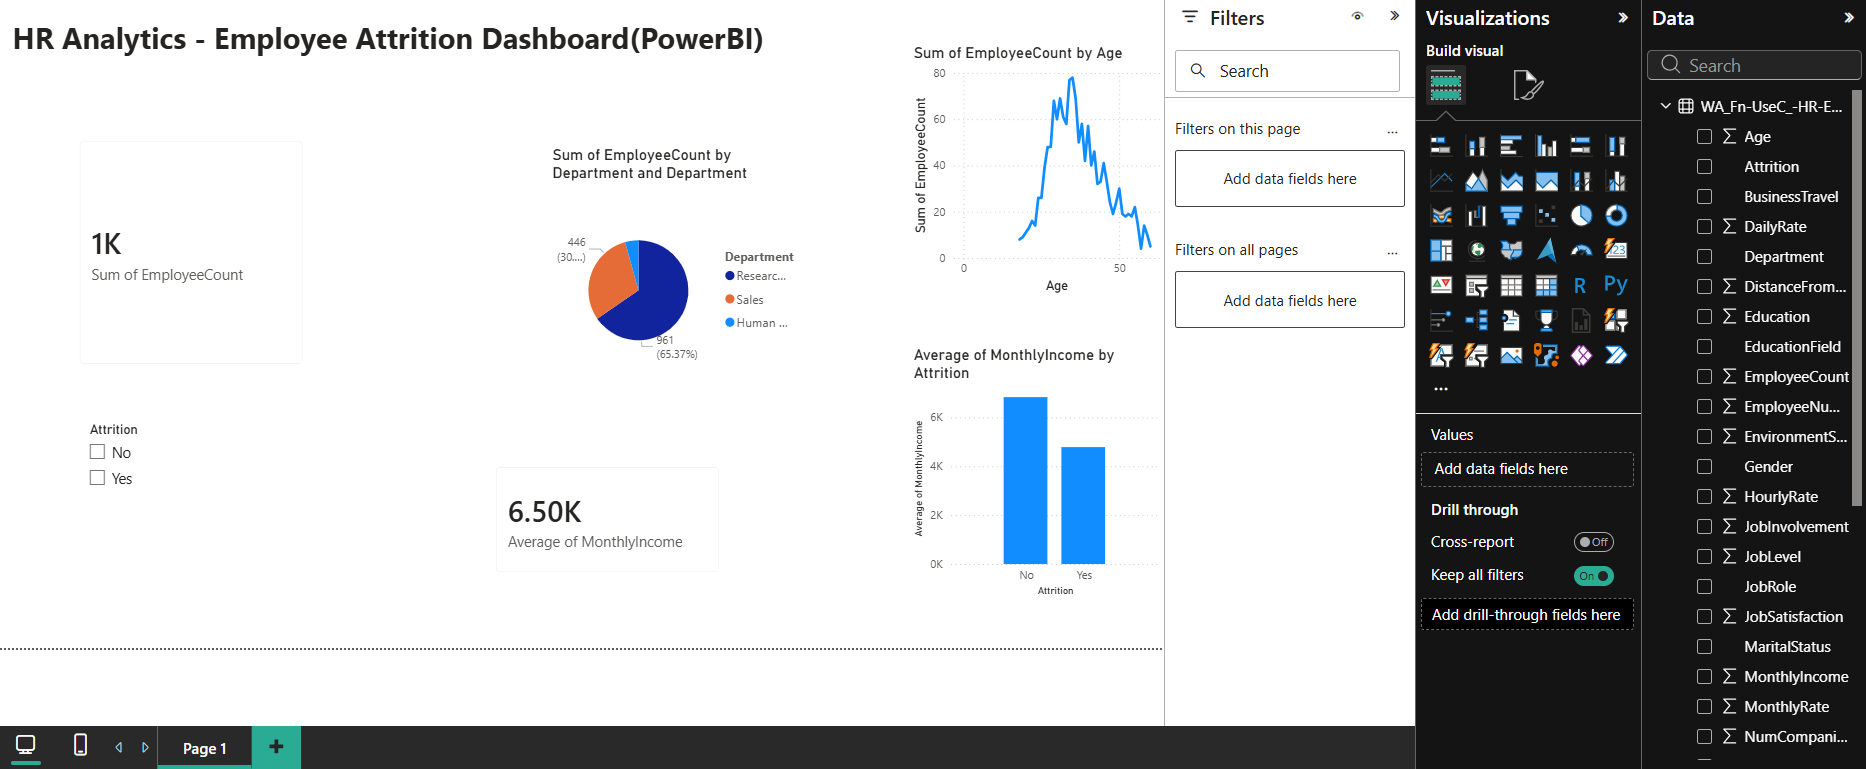

The dashboard page shown, as its layout file describes it:
{"tool":"powerbi","page":{"name":"Page 1","canvas":[1280,720],"ordinal":0},"visuals":[{"type":"cardVisual","fields":{"Data":["Sum(WA_Fn-UseC_-HR-Employee-Attrition.EmployeeCount)"]},"box":[72.7,145.5,279.9,279.9],"z":0},{"type":"pieChart","fields":{"Series":["WA_Fn-UseC_-HR-Employee-Attrition.Department"],"Category":["WA_Fn-UseC_-HR-Employee-Attrition.Department"],"Y":["Sum(WA_Fn-UseC_-HR-Employee-Attrition.EmployeeCount)"]},"box":[603.8,167.4,279.9,279.9],"z":1000},{"type":"slicer","fields":{"Values":["WA_Fn-UseC_-HR-Employee-Attrition.Attrition"]},"box":[87.8,465.2,279.9,150.9],"z":2000},{"type":"lineChart","fields":{"Category":["WA_Fn-UseC_-HR-Employee-Attrition.Age"],"Y":["Sum(WA_Fn-UseC_-HR-Employee-Attrition.EmployeeCount)"]},"box":[1000.3,54.9,279.9,279.9],"z":3000},{"type":"clusteredColumnChart","fields":{"Y":["Avg(WA_Fn-UseC_-HR-Employee-Attrition.MonthlyIncome)"],"Category":["WA_Fn-UseC_-HR-Employee-Attrition.Attrition"]},"box":[1000.3,387,279.9,279.9],"z":4000},{"type":"textbox","box":[11,22,841.2,65.9],"z":5000},{"type":"cardVisual","fields":{"Data":["Avg(WA_Fn-UseC_-HR-Employee-Attrition.MonthlyIncome)"]},"box":[529.7,503.6,279.9,149.6],"z":6000}]}

Visuals, with their boxes on the page's 1280x720 design canvas (x1, y1, x2, y2). These are canvas units, not pixel positions in the 1866x769 screenshot, which may show the page scaled, cropped or inside an application window:
cardVisual - Sum(WA_Fn-UseC_-HR-Employee-Attrition.EmployeeCount): <box>73,146,353,425</box>
pieChart - WA_Fn-UseC_-HR-Employee-Attrition.Department x WA_Fn-UseC_-HR-Employee-Attrition.Department: <box>604,167,884,447</box>
slicer - WA_Fn-UseC_-HR-Employee-Attrition.Attrition: <box>88,465,368,616</box>
lineChart - WA_Fn-UseC_-HR-Employee-Attrition.Age x Sum(WA_Fn-UseC_-HR-Employee-Attrition.EmployeeCount): <box>1000,55,1280,335</box>
clusteredColumnChart - Avg(WA_Fn-UseC_-HR-Employee-Attrition.MonthlyIncome) x WA_Fn-UseC_-HR-Employee-Attrition.Attrition: <box>1000,387,1280,667</box>
textbox: <box>11,22,852,88</box>
cardVisual - Avg(WA_Fn-UseC_-HR-Employee-Attrition.MonthlyIncome): <box>530,504,810,653</box>
